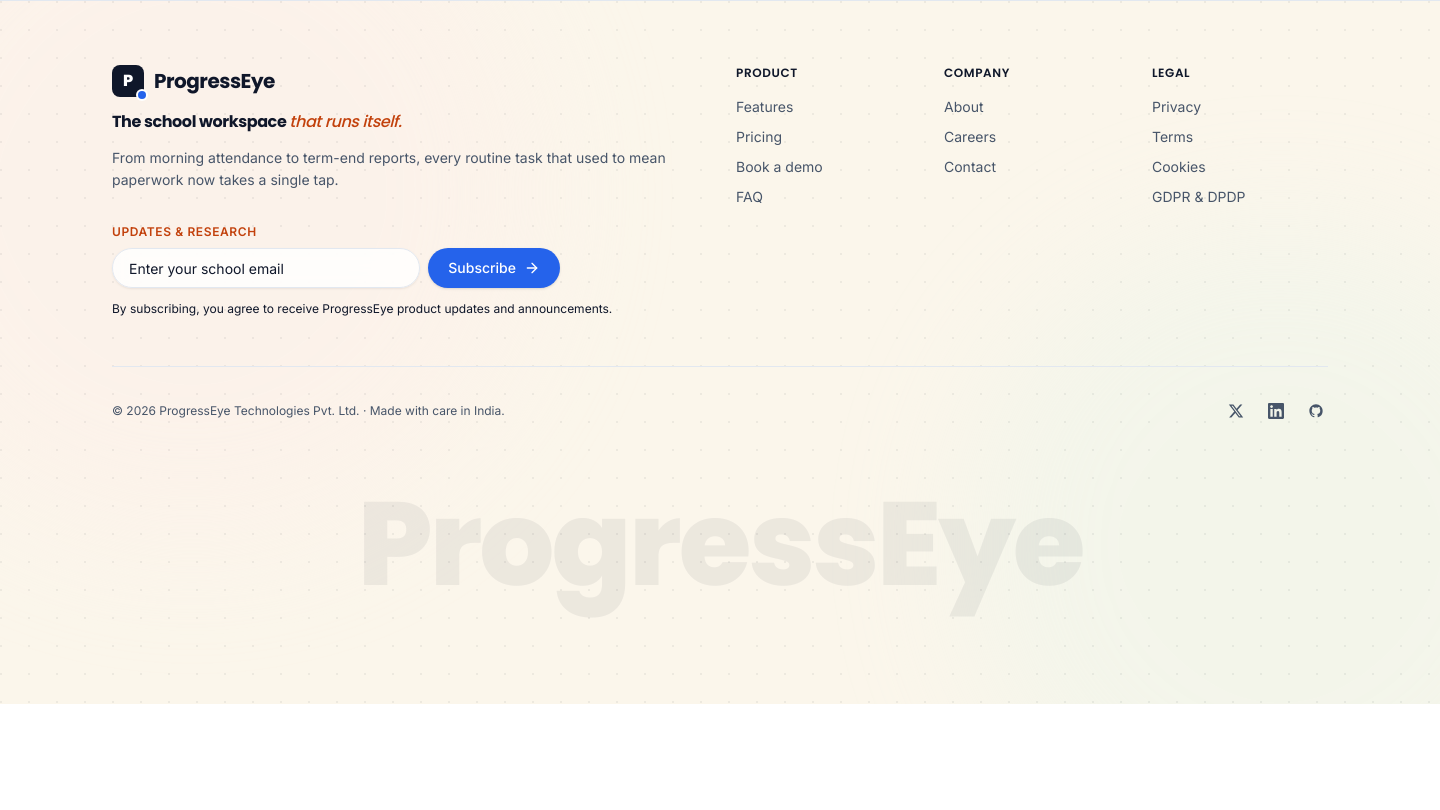
Footer & Newsletter Form Unit Tests › API wiring parity with backend flag enabled (?backend=true) › sends Idempotency-Key UUID header and expected JSON payload
Type "headmaster@school.ac.in" into the field with placeholder "Enter your school email". click: (266, 268)
box: [112,248,420,288]
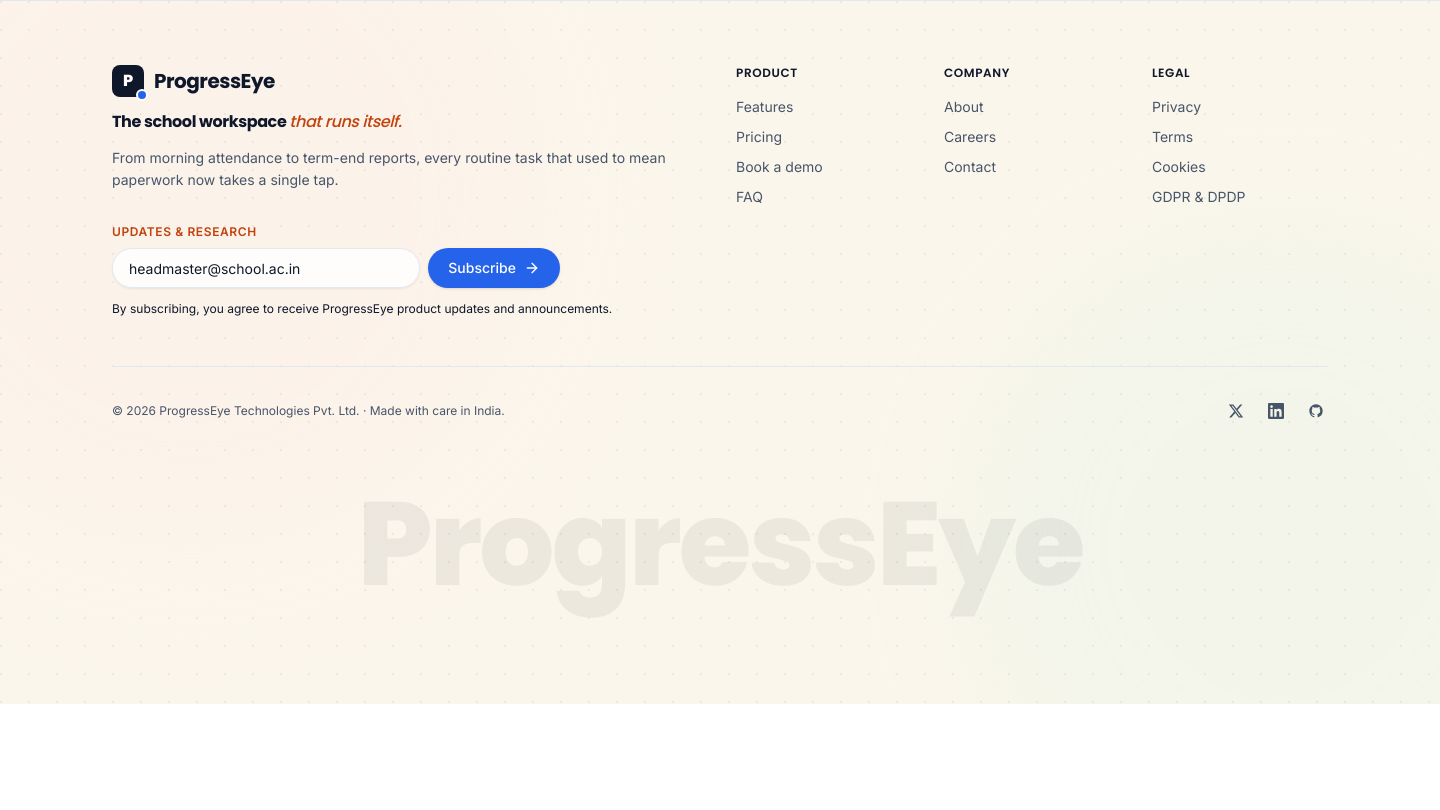
Click the button "Subscribe". click: (494, 268)
box: [428,248,560,288]
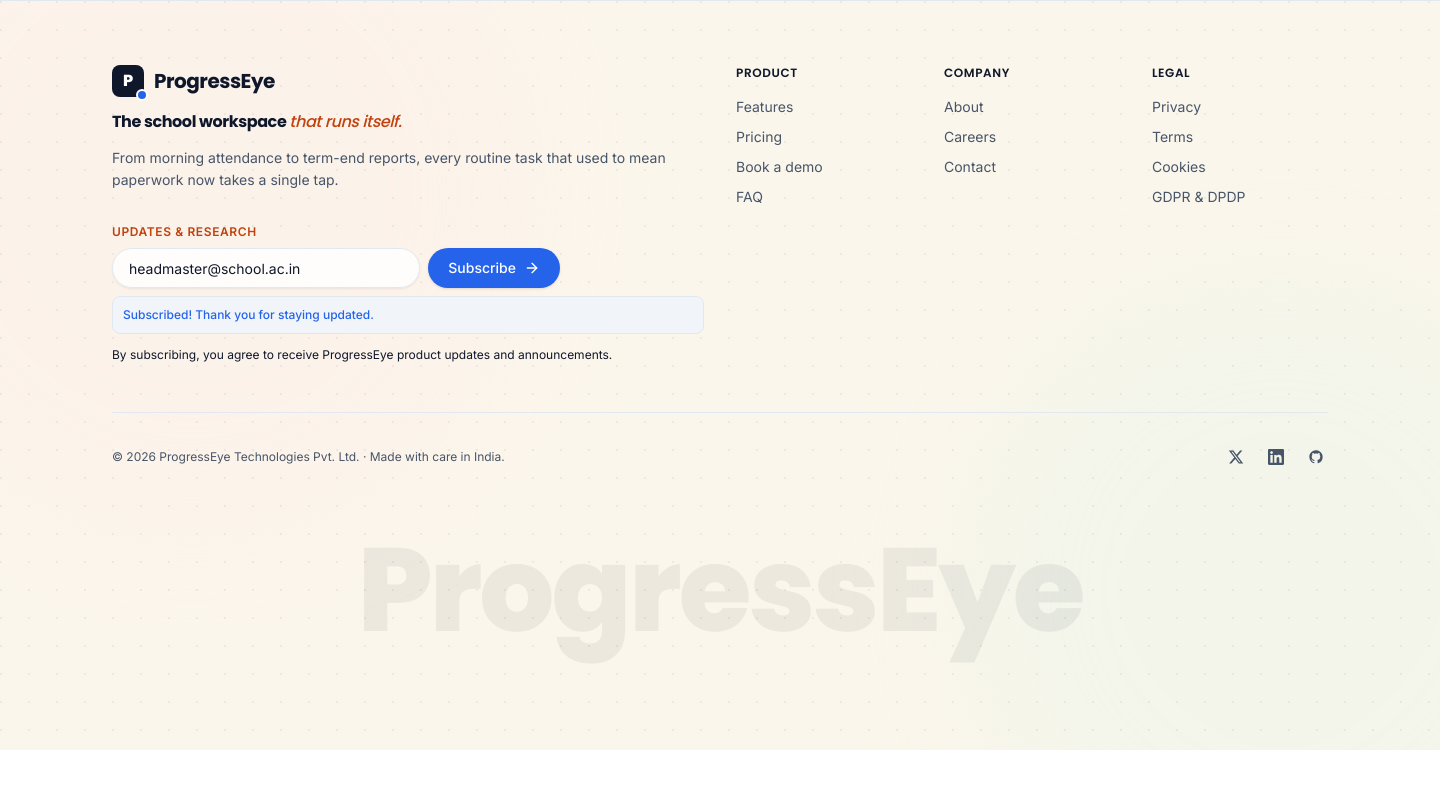
Now the text "Subscribed! Thank you for staying updated." is shown, box [112,296,704,334]
